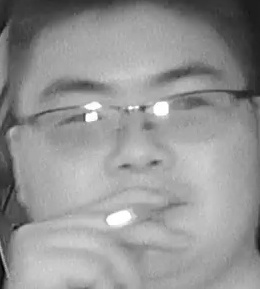eye: (170, 94, 211, 113)
glass: (145, 88, 237, 141), (35, 102, 120, 154)
